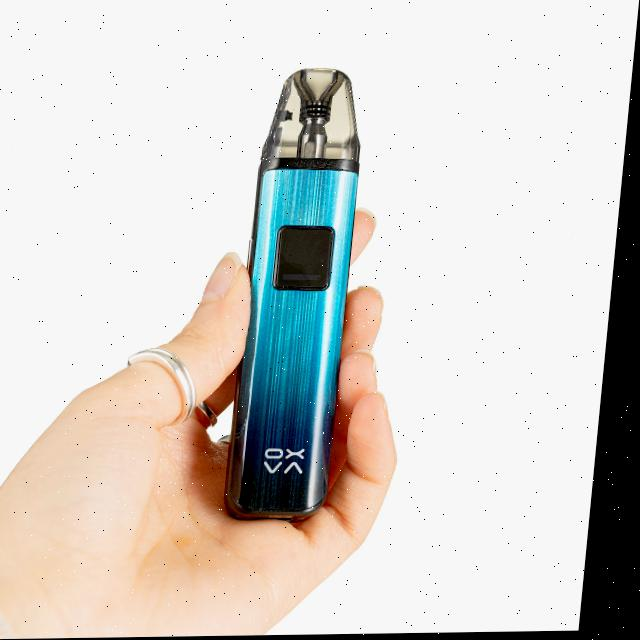vape: (234, 68, 371, 523)
